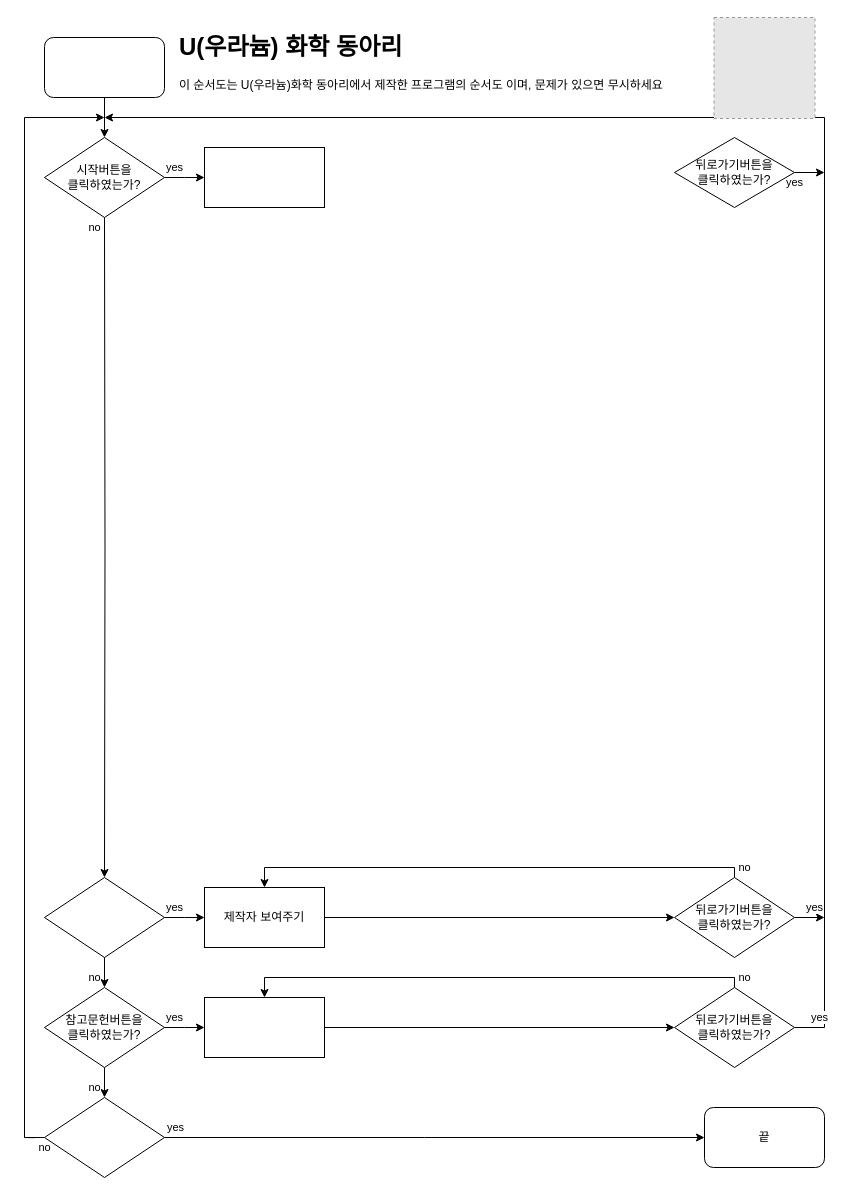
Some shapes in this 850 by 1195 pixel diagram are drawn without their labels. Grey dashed boxes stand in for pictures. Here are the shapes that lost their labels. From the top down, the centre of each, then its label:
At [104,67]: "시작".
At [104,917]: "제작자버튼을 클릭하였는가?".
At [264,1027]: "참고문헌 문서 보여주기".
At [104,1137]: "종료버튼을 클릭하였는가?".
